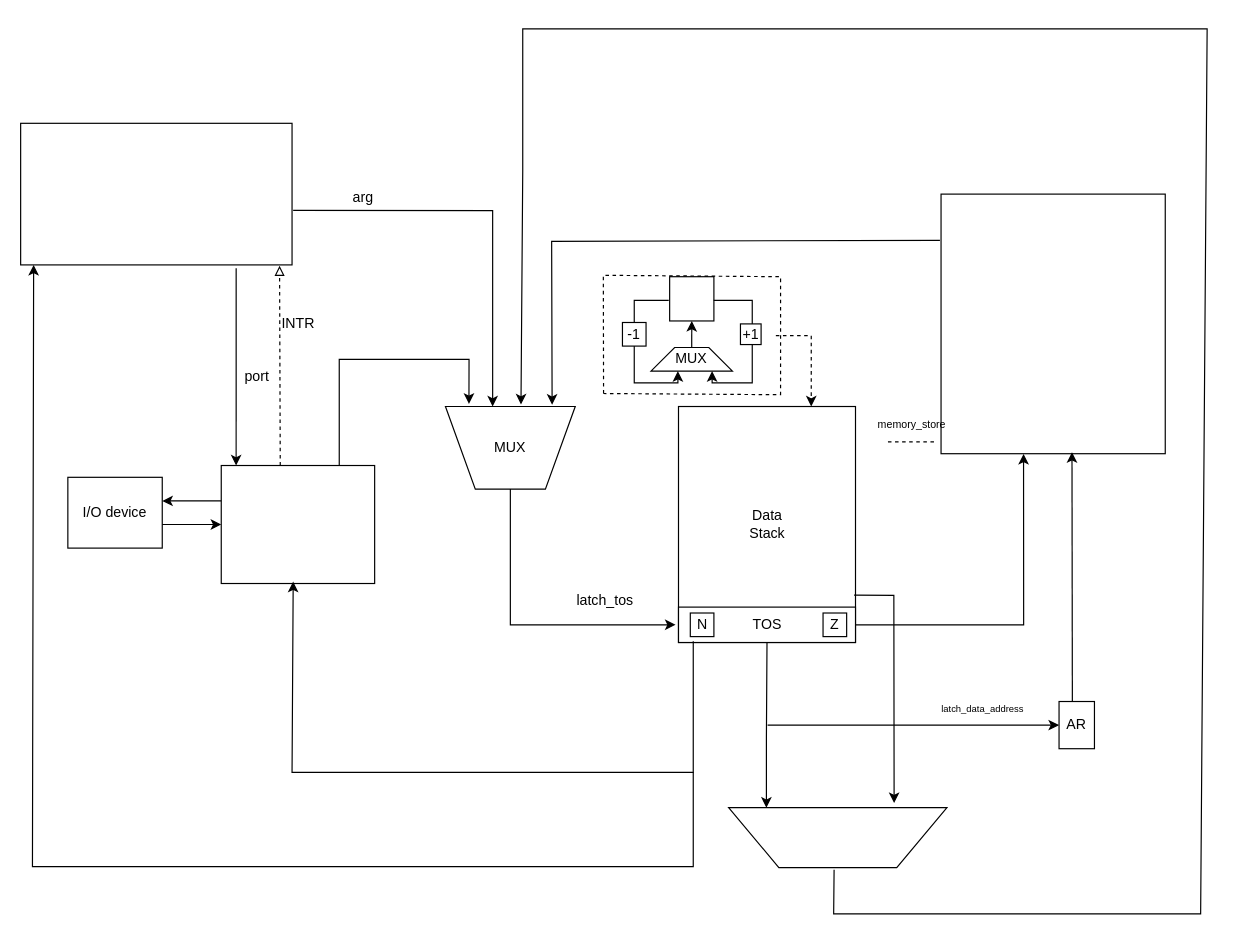
Some shapes in this 1238 by 944 pixel diagram are drawn without their labels. Each missing label, with the centre of its shape:
"ALU" belongs at (837,837).
"Control Unit" belongs at (155,193).
"Data Memory" belongs at (1052,323).
"I/O Controller" belongs at (297,524).
"SP" belongs at (691,298).
